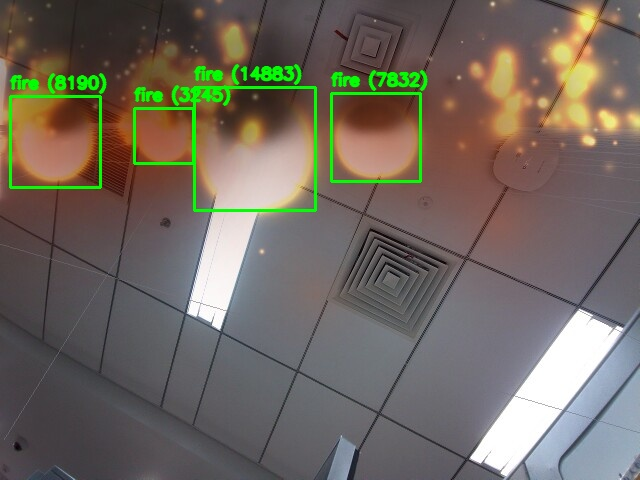fire: (194, 87, 315, 210), (10, 96, 100, 187), (331, 93, 420, 181), (134, 108, 193, 163)
